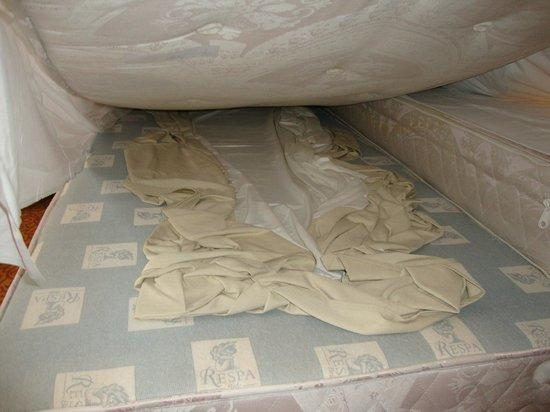Bed-Mattress: (1, 94, 550, 412)
